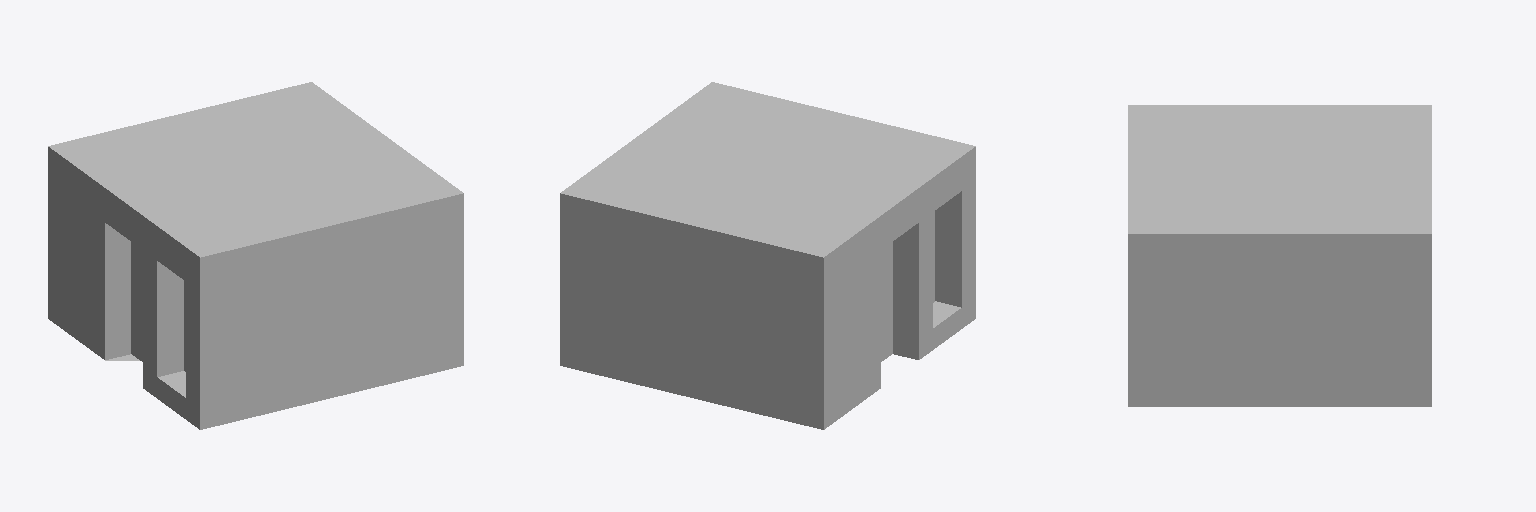
File: modularBuildings_069.obj
3 views of the same model, side by side, from view 1: azimuth 30°, elevation 25°; view 2: azimuth 150°, elevation 25°; view 3: azimuth 270°, elevation 25° (orthographic).
Visible parts, largest first — view 1: Mesh1 Group1 Model; view 2: Mesh1 Group1 Model; view 3: Mesh1 Group1 Model.
Part boxes in pixels (x1,y1,x2,y2): Mesh1 Group1 Model: (48,82,463,429); Mesh1 Group1 Model: (560,82,975,429); Mesh1 Group1 Model: (1128,105,1431,406).
Bounding box in the file's own units: 1 × 0.625 × 1.